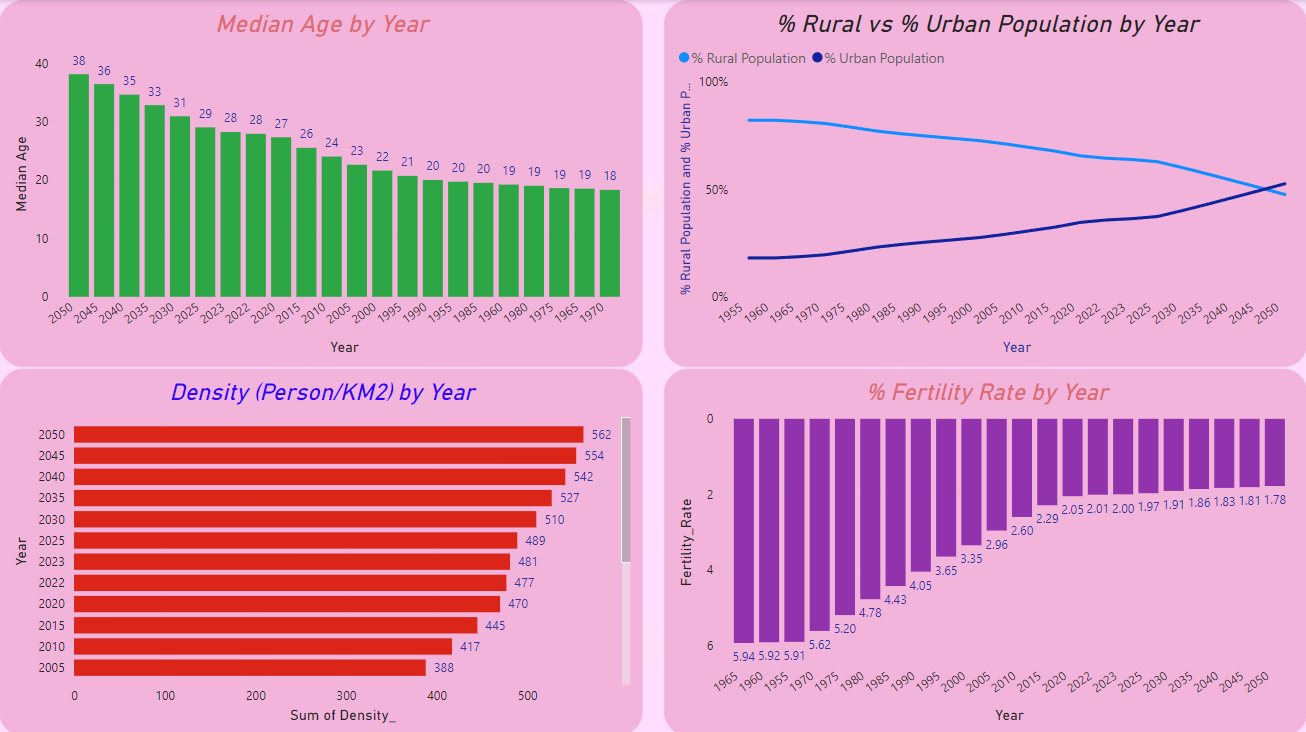

The page's visual inventory and layout, read from the dashboard file:
{"tool":"powerbi","page":{"name":"Page 2","canvas":[1280,720],"ordinal":1},"visuals":[{"type":"lineChart","title":"% Rural vs % Urban Population by Year","fields":{"Category":["Sheet1.Year"],"Y":["Sum(Sheet1.% Rural Population)","Sum(Sheet1.Urban Pop %)"]},"box":[650.4,0,629.8,359.5],"z":0},{"type":"columnChart","title":"Median Age by Year","fields":{"Category":["Sheet1.Year"],"Y":["Sum(Sheet1.Median_Age)"]},"box":[0,0,629.8,359.5],"z":1000},{"type":"clusteredBarChart","title":"Density (Person/KM2) by Year","fields":{"Category":["Sheet1.Year"],"Y":["Sum(Sheet1.Density_)"]},"box":[0,360.9,629.8,359.5],"z":2000},{"type":"columnChart","title":"% Fertility Rate by Year","fields":{"Category":["Sheet1.Year"],"Y":["Sum(Sheet1.Fertility_Rate)"]},"box":[650.4,360.9,629.8,359.5],"z":3000}]}

Visuals, with their boxes in screenshot pixels (x1, y1, x2, y2), scaled from the page's 1280x720 canvas onto the 1306x732 screenshot:
"% Rural vs % Urban Population by Year" lineChart: [664,0,1305,365]
"Median Age by Year" columnChart: [0,0,643,365]
"Density (Person/KM2) by Year" clusteredBarChart: [0,367,643,731]
"% Fertility Rate by Year" columnChart: [664,367,1305,731]
